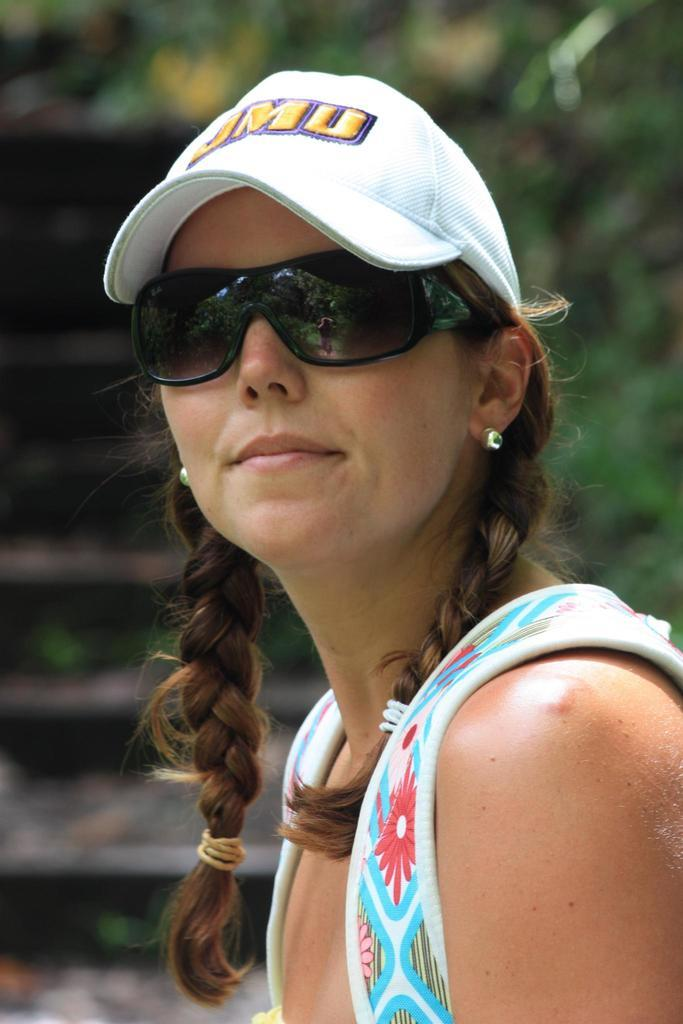Hat: (105, 66, 525, 316)
